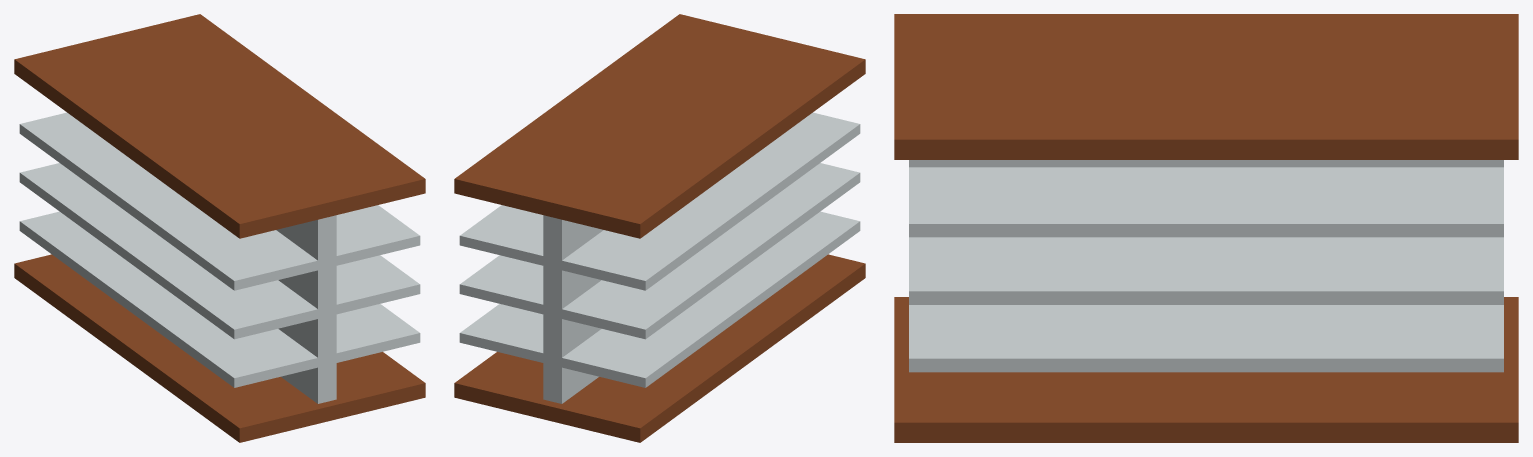
File: Shelf_2x4m.fbx
The picture shows the model from 3 angles, left to right: view 1: azimuth 30°, elevation 25°; view 2: azimuth 150°, elevation 25°; view 3: azimuth 270°, elevation 25°; orthographic projection. The views are drawn at different scales.
Parts seen in each view (by area): view 1: Top, Base, Shelf2, Shelf1, Shelf, Middle Frame; view 2: Top, Base, Shelf2, Shelf, Shelf1, Middle Frame; view 3: Top, Base, Shelf2, Shelf, Shelf1, Middle Frame.
Boxes of the visible parts, x1,y1,x2,y2 form: Top: [14, 14, 425, 238]; Base: [14, 254, 425, 442]; Shelf2: [19, 112, 420, 290]; Shelf1: [19, 163, 420, 339]; Shelf: [19, 211, 420, 387]; Middle Frame: [276, 215, 336, 403]; Top: [454, 14, 865, 238]; Base: [454, 254, 865, 442]; Shelf2: [459, 112, 860, 290]; Shelf: [459, 211, 860, 387]; Shelf1: [459, 163, 860, 339]; Middle Frame: [543, 215, 603, 403]; Top: [894, 14, 1518, 159]; Base: [894, 297, 1518, 442]; Shelf2: [909, 167, 1503, 237]; Shelf: [909, 305, 1503, 372]; Shelf1: [909, 237, 1503, 304]; Middle Frame: [909, 160, 1503, 167].
Bounding box in the file's own units: 200 × 225 × 420.
